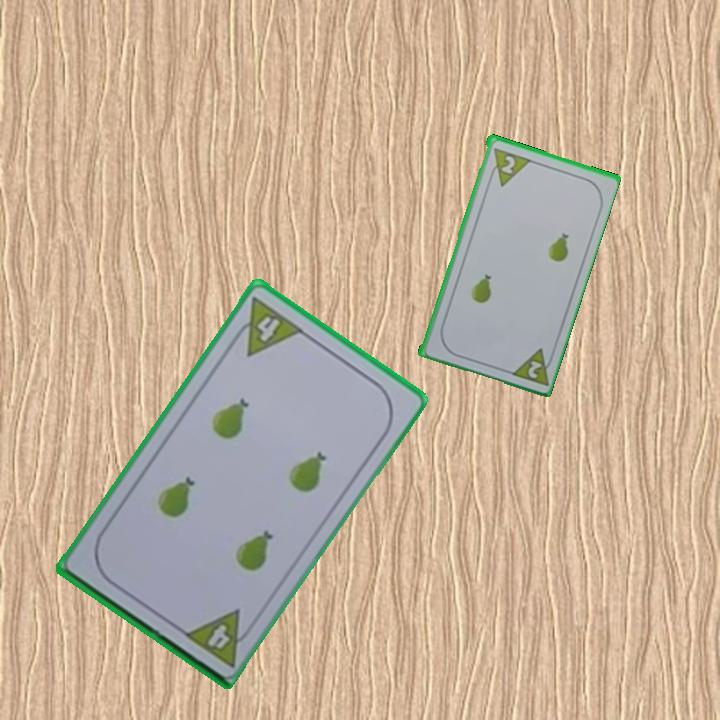2p: (506, 344, 557, 388), (497, 152, 518, 177)
4p: (226, 293, 306, 359), (179, 606, 258, 669)
